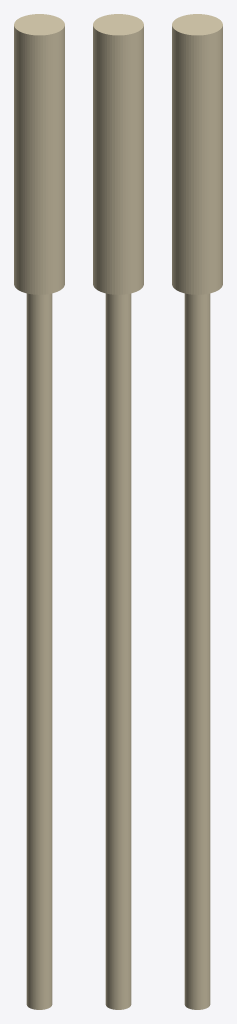
The model's file is engine-coolant-temperature-terminal.glb.
3 renders of one model, left to right at view 1: azimuth 30°, elevation 25°; view 2: azimuth 150°, elevation 25°; view 3: azimuth 330°, elevation 25°, orthographic.
Parts seen in each view (by area): view 1: world; view 2: world; view 3: world.
Part boxes in pixels (x1,y1,x2,y2): world: (14,14,64,1009); world: (93,14,143,1009); world: (172,14,222,1009).
Size of the model in its own units: 0.0016 by 0.034 by 0.0016.
